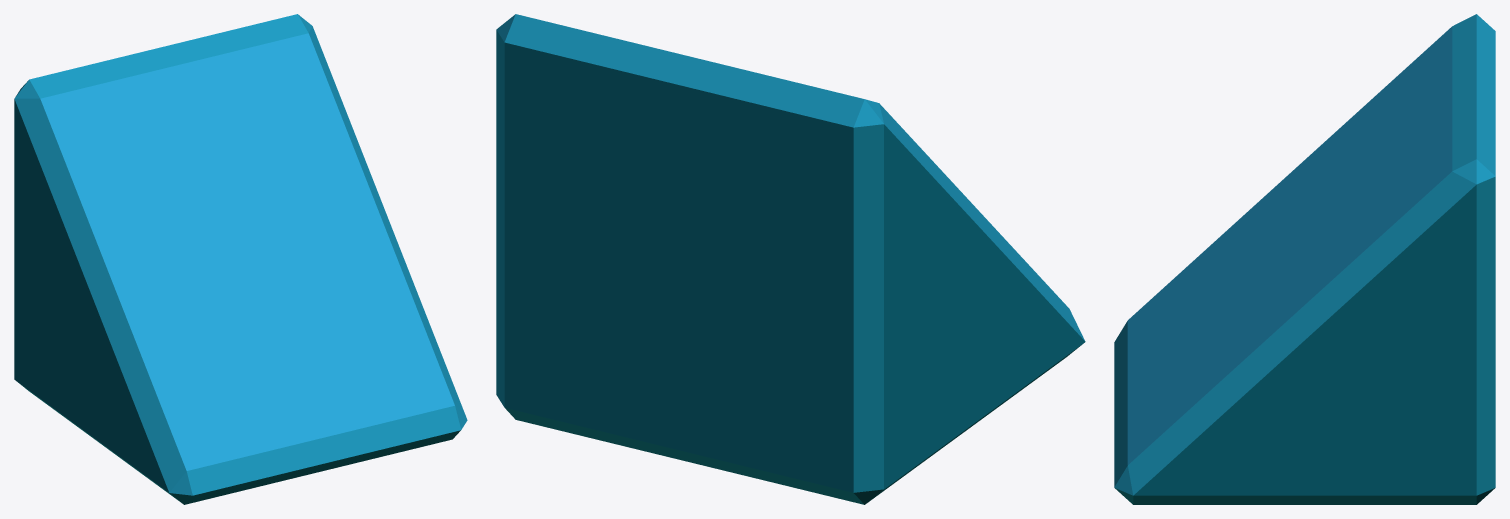
File: m_kub_diagonalBlue.FBX
The picture shows the model from 3 angles, left to right: view 1: azimuth 30°, elevation 25°; view 2: azimuth 150°, elevation 25°; view 3: azimuth 270°, elevation 25°; orthographic projection. The views are drawn at different scales.
Parts seen in each view (by area): view 1: m_kub_diagonalBlue; view 2: m_kub_diagonalBlue; view 3: m_kub_diagonalBlue.
Part boxes in pixels (bbox=[...]): m_kub_diagonalBlue: bbox=[14, 14, 467, 504]; m_kub_diagonalBlue: bbox=[496, 14, 1085, 504]; m_kub_diagonalBlue: bbox=[1114, 14, 1495, 504].
Size of the model in its own units: 2 by 2 by 2.
